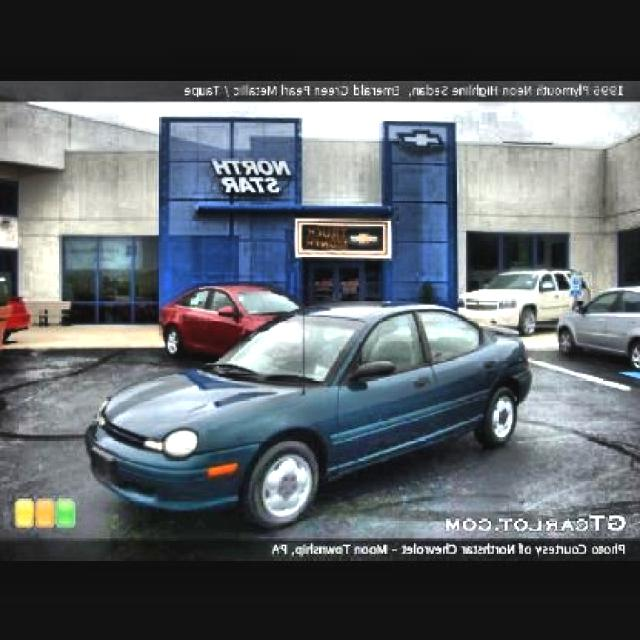blue: (107, 328, 522, 512)
red: (161, 274, 305, 356)
